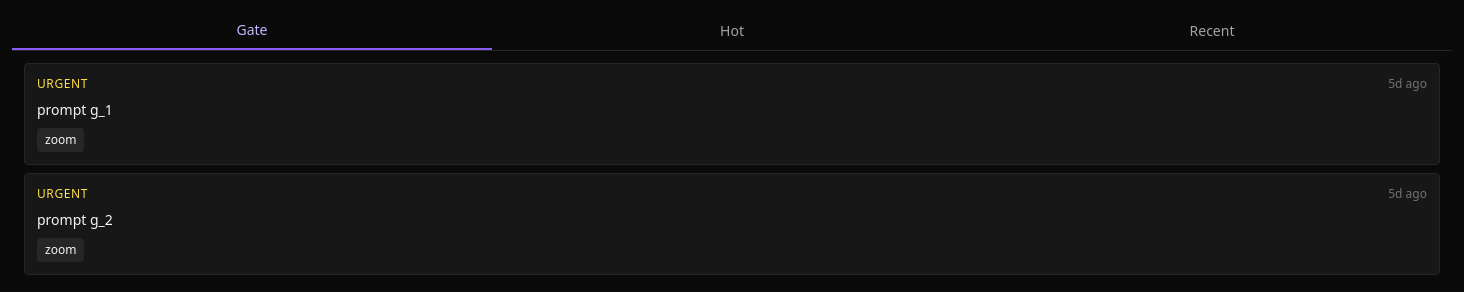
it: MobileInboxView › Hot tab lists hot-spot nodes
Click the tab "hot". click: (732, 31)
box: [492, 12, 972, 50]
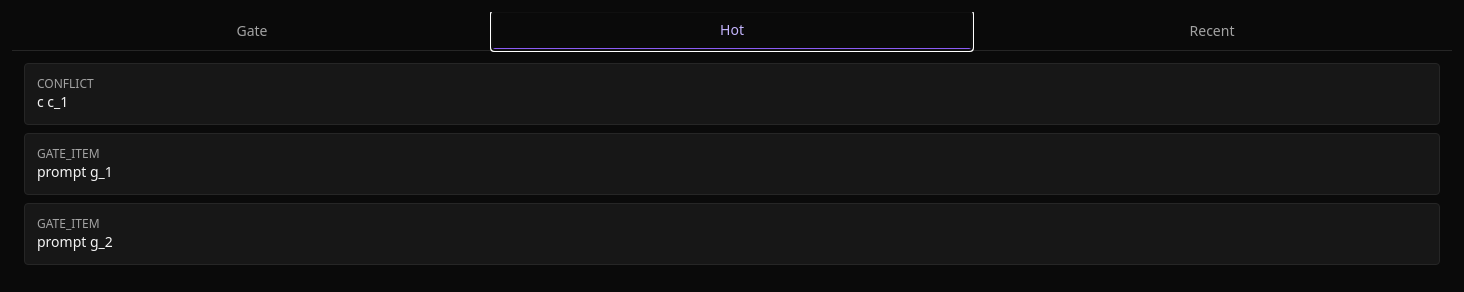
expect the text "c c_1" is shown: met, box [37, 92, 68, 111]
